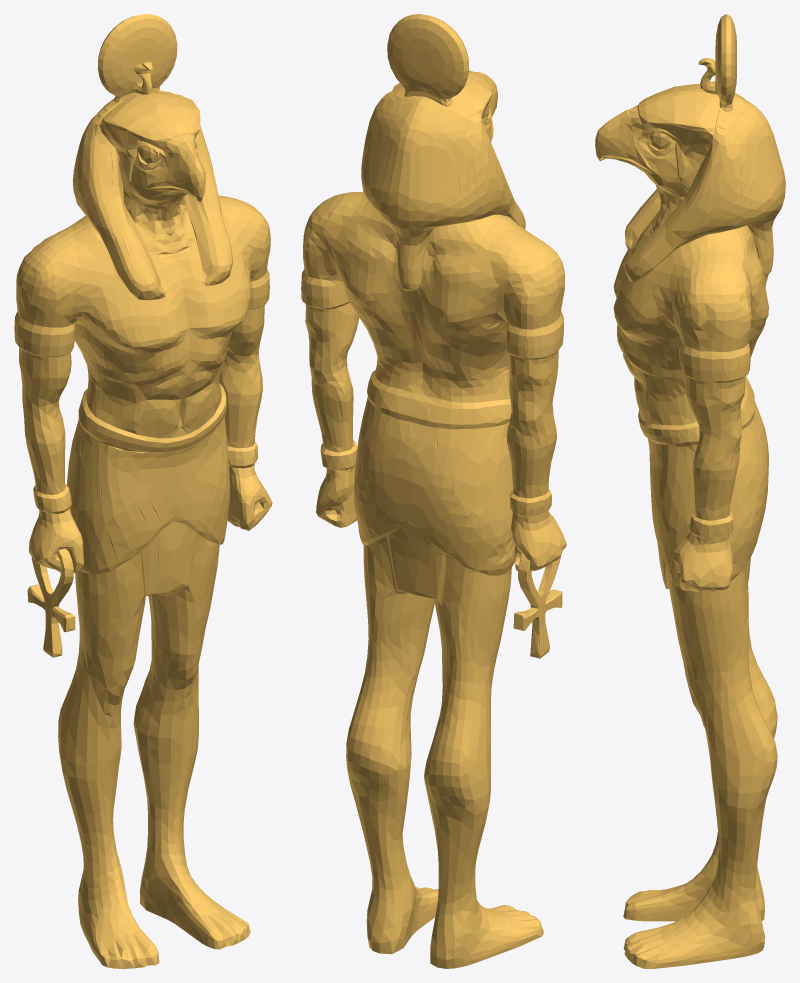
The picture shows the model from 3 angles, left to right: view 1: azimuth 30°, elevation 25°; view 2: azimuth 150°, elevation 25°; view 3: azimuth 270°, elevation 25°; orthographic projection. The views are drawn at different scales.
Parts seen in each view (by area): view 1: Object110; view 2: Object110; view 3: Object110.
Boxes of the visible parts, x1=… form: Object110: x1=14, y1=14, x2=272, y2=968; Object110: x1=301, y1=14, x2=566, y2=968; Object110: x1=595, y1=14, x2=785, y2=968.
Size of the model in its own units: 2.55 by 9.06 by 1.71.
